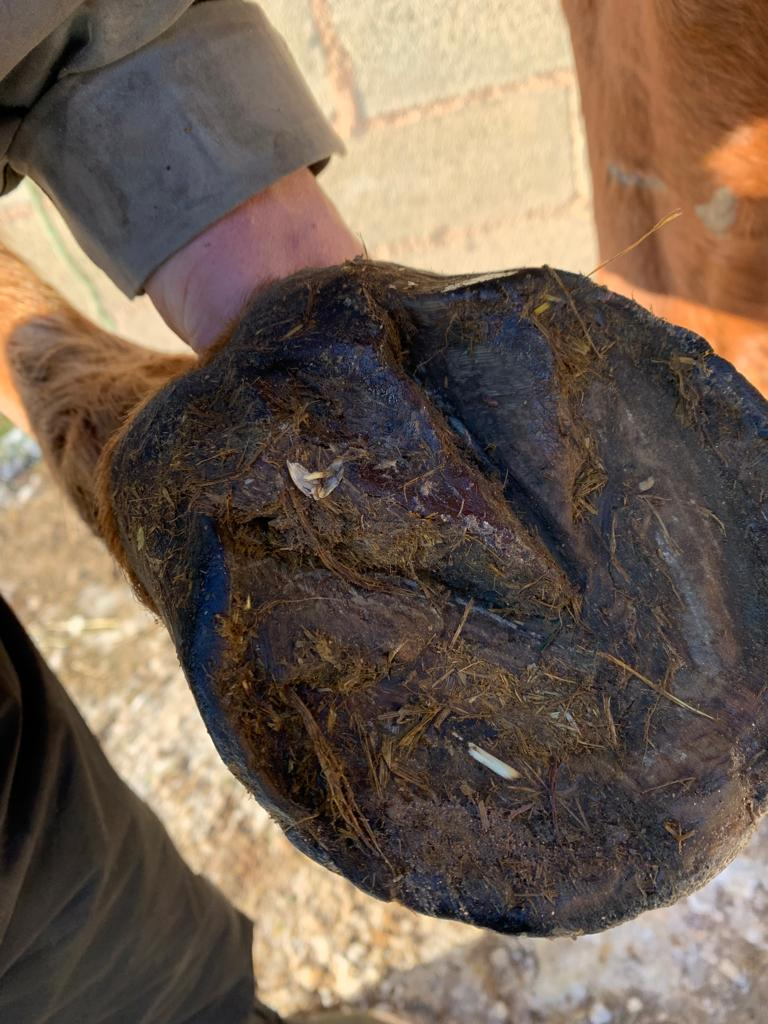horsesole: (183, 268, 768, 938)
